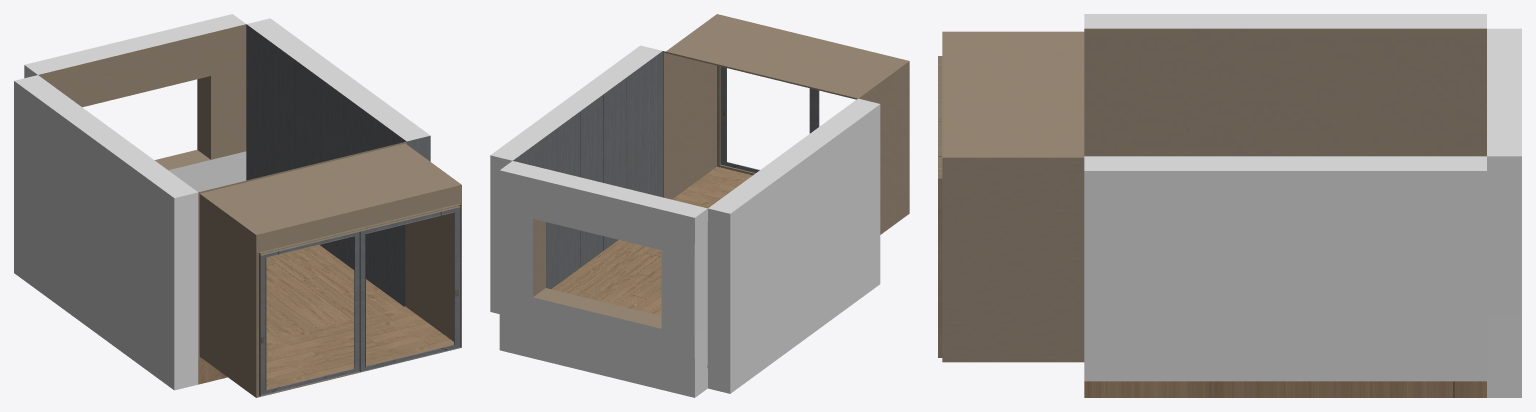
Rendered from testing_dim-transformed.glb.
3 views of the same model, side by side, from view 1: azimuth 30°, elevation 25°; view 2: azimuth 150°, elevation 25°; view 3: azimuth 270°, elevation 25° (orthographic). The views are drawn at different scales.
Parts seen in each view (by area): view 1: wall left, strucutrer wall dor old, wall right, wall window.001, flloor, wall door, wall door l frame fabric only.001, wall door l frame fabric only; view 2: wall left, wall window.001, strucutrer wall dor old, wall right, flloor, wall door l frame fabric only, wall door; view 3: wall right, wall left, strucutrer wall dor old, wall window.001, flloor, wall door.
Boxes of the visible parts, box(x1,y1,x2,y2) form: wall left: box(14, 75, 198, 390); strucutrer wall dor old: box(198, 141, 461, 397); wall right: box(246, 18, 430, 306); wall window.001: box(24, 14, 246, 192); flloor: box(198, 245, 403, 384); wall door: box(256, 185, 461, 397); wall door l frame fabric only.001: box(259, 232, 359, 395); wall door l frame fabric only: box(360, 207, 460, 371); wall left: box(708, 98, 880, 393); wall window.001: box(499, 161, 707, 397); strucutrer wall dor old: box(663, 14, 909, 234); wall right: box(490, 45, 662, 313); flloor: box(551, 222, 707, 367); wall door l frame fabric only: box(720, 66, 813, 172); wall door: box(717, 65, 755, 175); wall right: box(1084, 156, 1486, 381); wall left: box(1084, 14, 1486, 156); strucutrer wall dor old: box(942, 31, 1084, 362); wall window.001: box(1487, 28, 1521, 397); flloor: box(1084, 381, 1486, 397); wall door: box(938, 56, 942, 357).
Size of the model in its own units: 2.95 by 2.12 by 4.63.
Materials: 7 (6 with a texture image).
